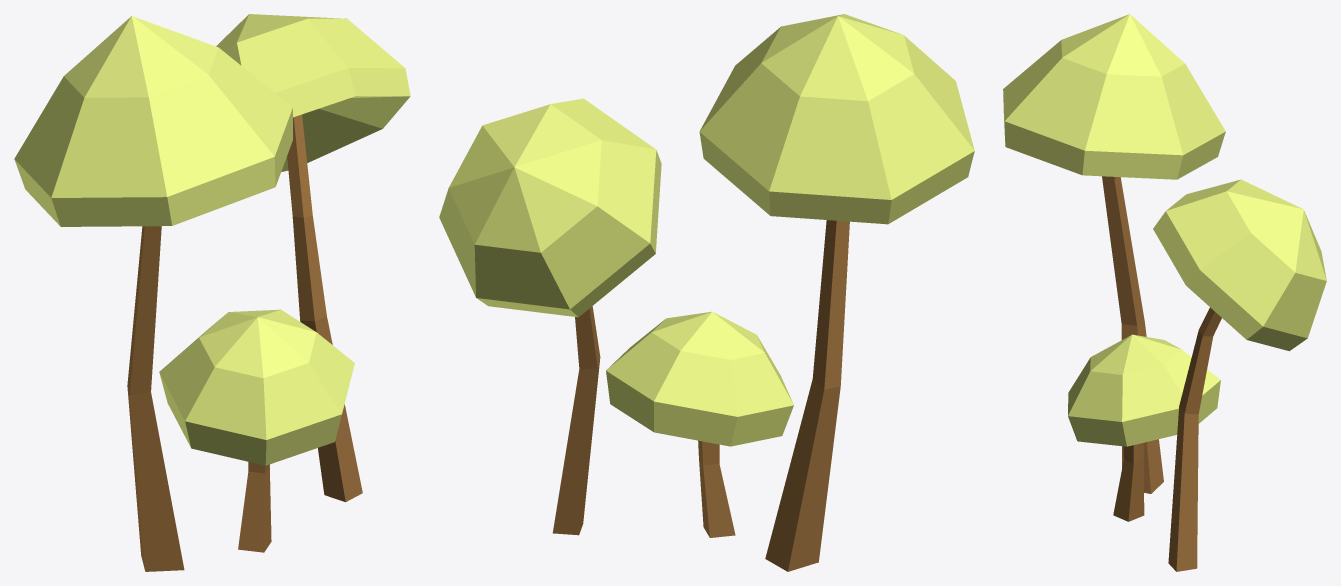
The model's file is nature_mushroom-toadstool-green.fbx.
3 views of the same model, side by side, from view 1: azimuth 30°, elevation 25°; view 2: azimuth 150°, elevation 25°; view 3: azimuth 270°, elevation 25° (orthographic). The views are drawn at different scales.
Parts seen in each view (by area): view 1: nature_mushroom_toadstool_green; view 2: nature_mushroom_toadstool_green; view 3: nature_mushroom_toadstool_green.
Part boxes in pixels (<box>): nature_mushroom_toadstool_green: <box>14,14,410,571</box>; nature_mushroom_toadstool_green: <box>439,14,974,571</box>; nature_mushroom_toadstool_green: <box>1003,14,1326,571</box>.
Bounding box in the file's own units: 163 × 200 × 129.
